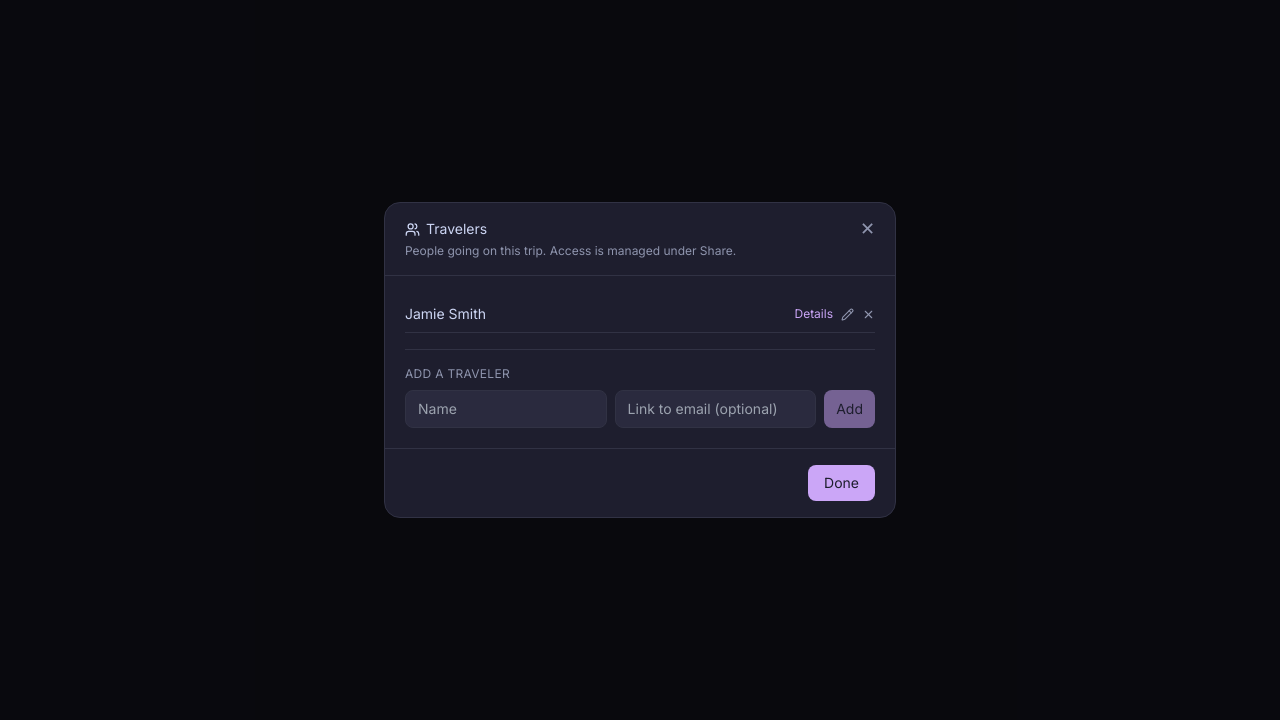
Test case: TravelersModal — owner › Details fetches and shows the profile only after "Show passport details"
Expected: the text "Jamie Smith" is shown, [405,304,486,324]
Click the button "Details" at point(814, 314), box [794,306,833,322]
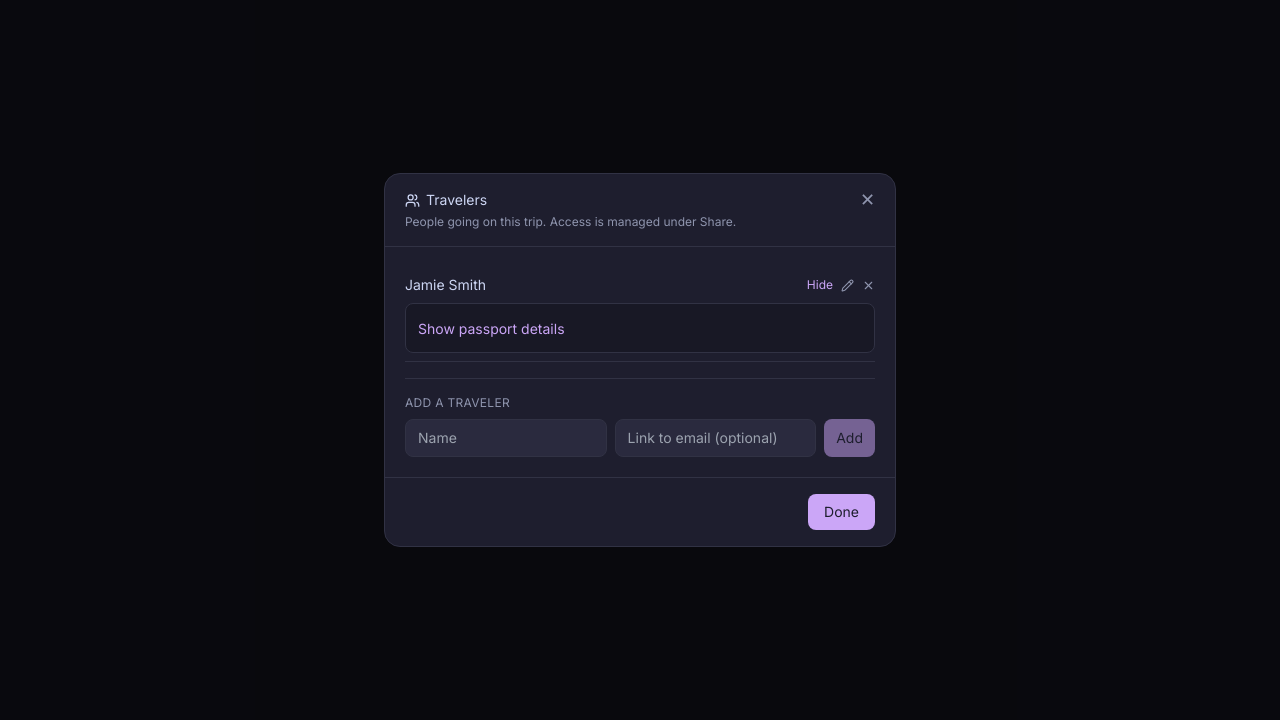
Now the button "Show passport details" is shown
Click the button "Show passport details" at point(491, 329), box [418,319,564,339]
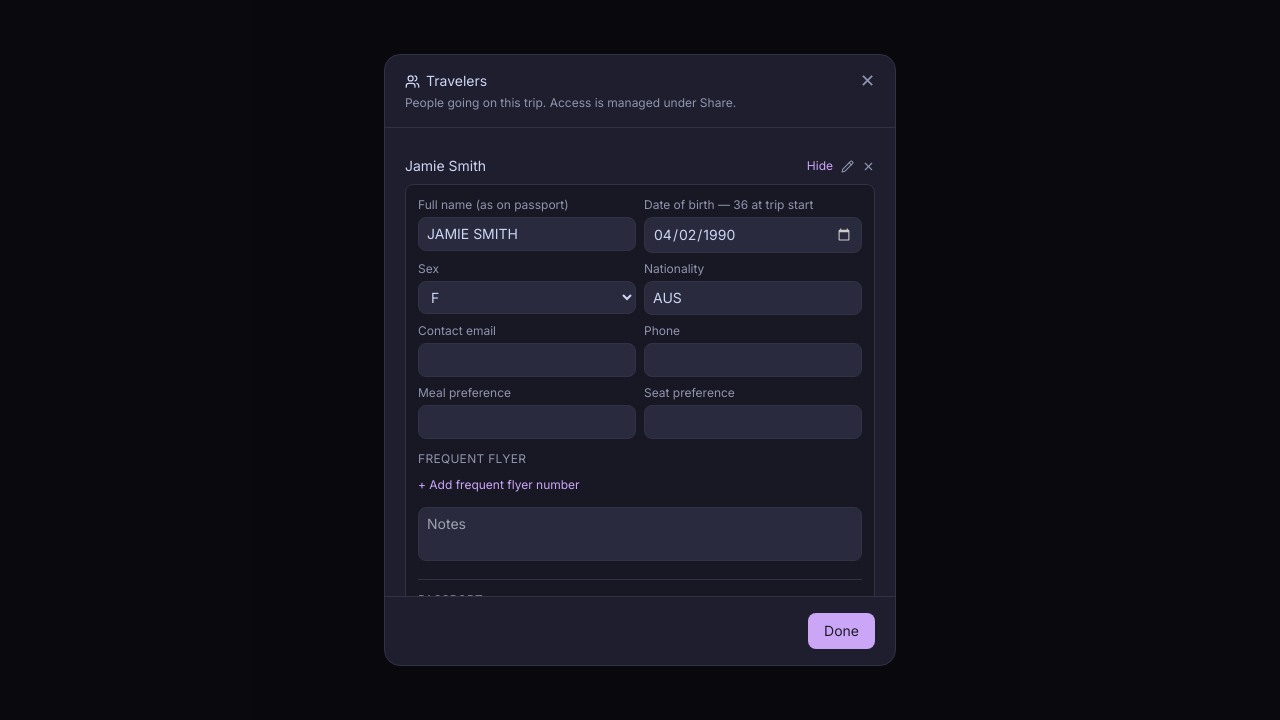
Now the field showing "JAMIE SMITH" is shown, box [418,217,636,251]
Now the text "Date of birth — 36 at trip start" is shown, box [644,197,862,253]
